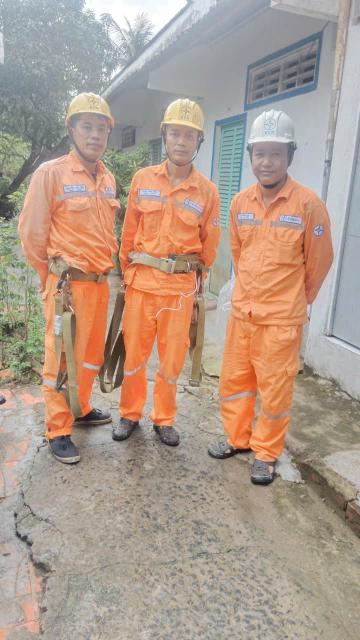harness: (113, 244, 210, 283), (48, 238, 115, 289)
helmet: (242, 104, 302, 152), (60, 87, 118, 126), (156, 97, 211, 136)
shoes: (198, 429, 257, 462), (237, 448, 284, 489), (42, 429, 91, 468), (92, 408, 141, 442), (57, 403, 113, 427), (146, 414, 183, 448)
